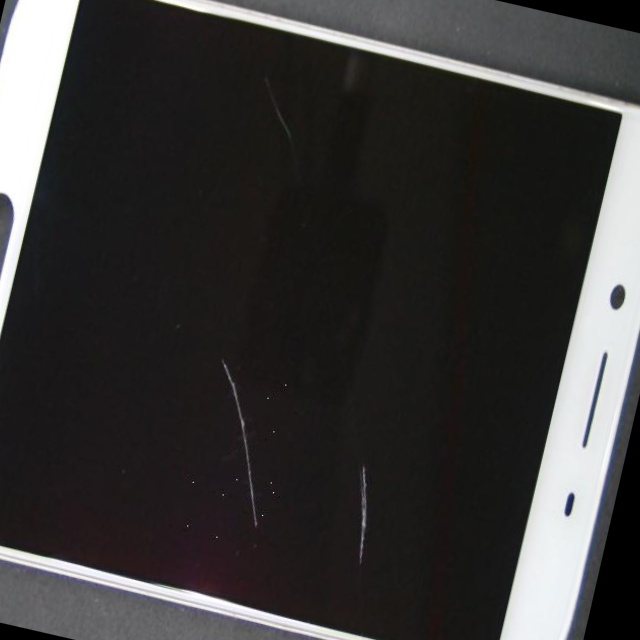scratch: (96, 243, 640, 640), (24, 127, 384, 594)
